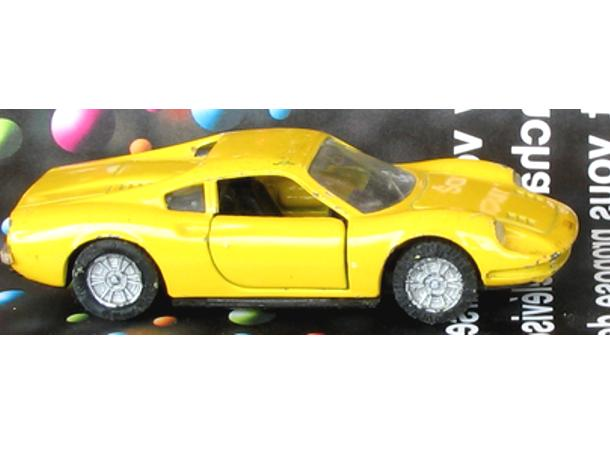toy-car: (0, 127, 581, 327)
